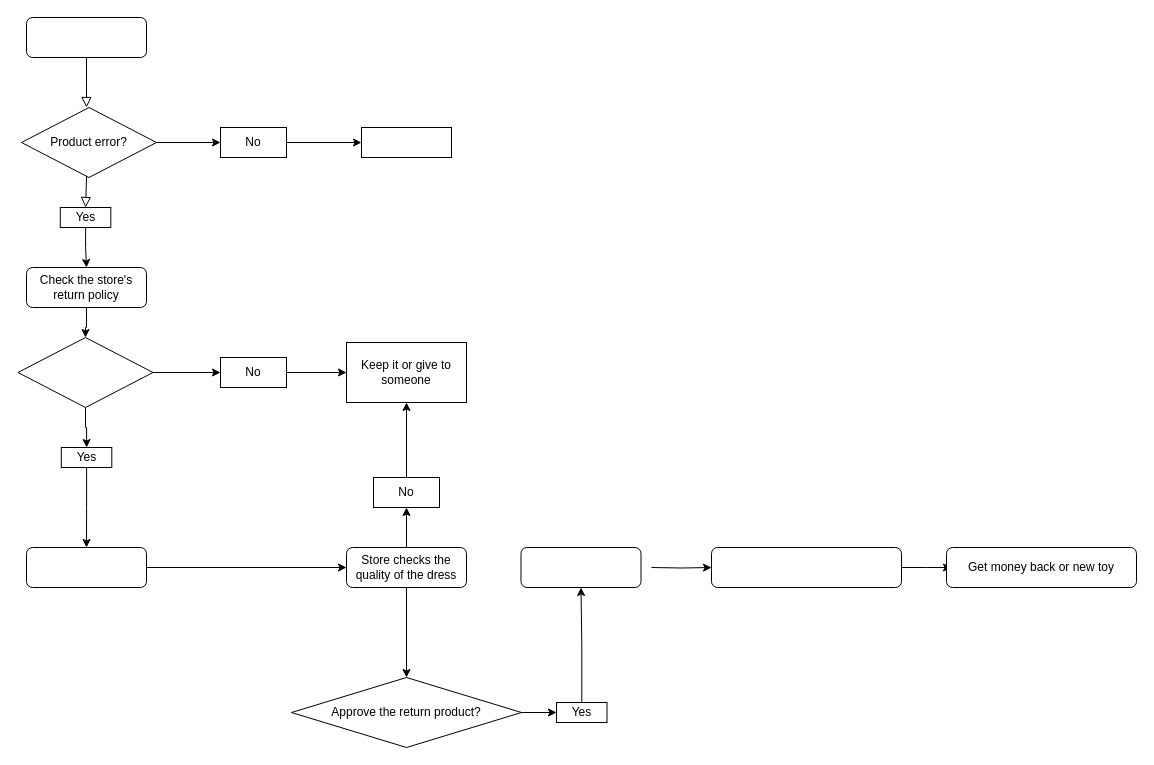
This 1154x765 diagram has some shape labels left out. The shapes that lost their labels are listed below. From the top down, each one's box as (x1, y1, x2, y2) in pixels, then its label:
(26, 16, 146, 58): Product received (A dress)
(360, 126, 452, 158): Accept product
(17, 336, 153, 408): Can it be returned?
(26, 546, 146, 588): Pack the dress with receipt
(520, 546, 641, 588): Go to the store or mail it
(710, 546, 902, 588): Choose refund or exchange
